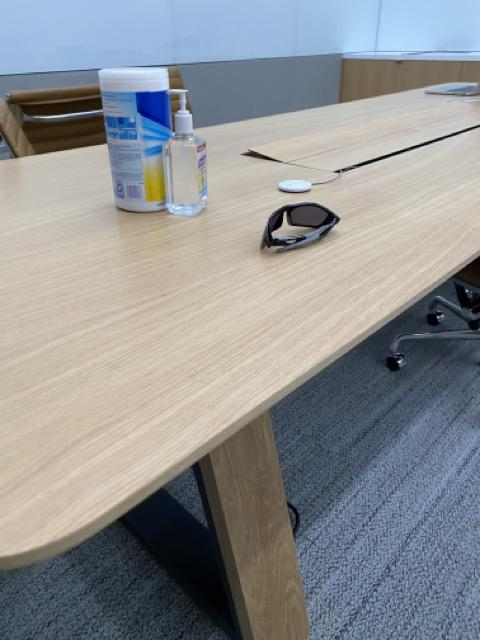Sunglasses: (260, 200, 341, 254)
